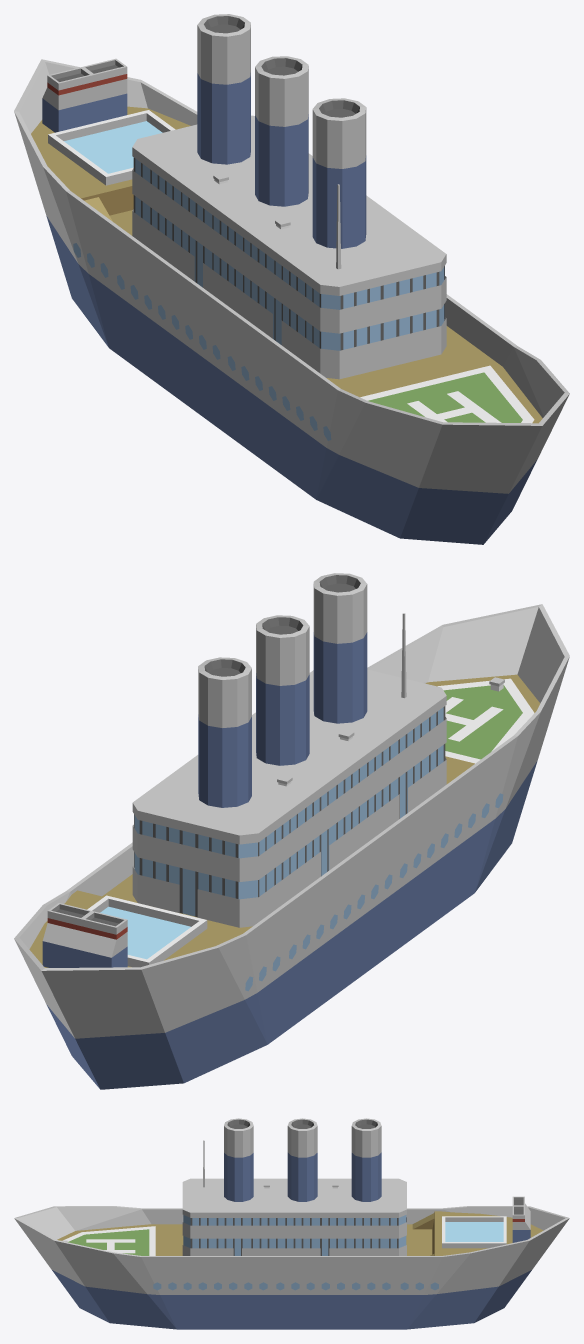
File: transport_water_002.fbx
The picture shows the model from 3 angles, top to bottom: view 1: azimuth 30°, elevation 25°; view 2: azimuth 150°, elevation 25°; view 3: azimuth 270°, elevation 25°; orthographic projection. The views are drawn at different scales.
Parts seen in each view (by area): view 1: transport_water_002; view 2: transport_water_002; view 3: transport_water_002.
Boxes of the visible parts, bbox=[...] form: transport_water_002: bbox=[14, 14, 569, 544]; transport_water_002: bbox=[14, 573, 569, 1089]; transport_water_002: bbox=[14, 1118, 569, 1329].
Size of the model in its own units: 768 by 1348 by 3700.
